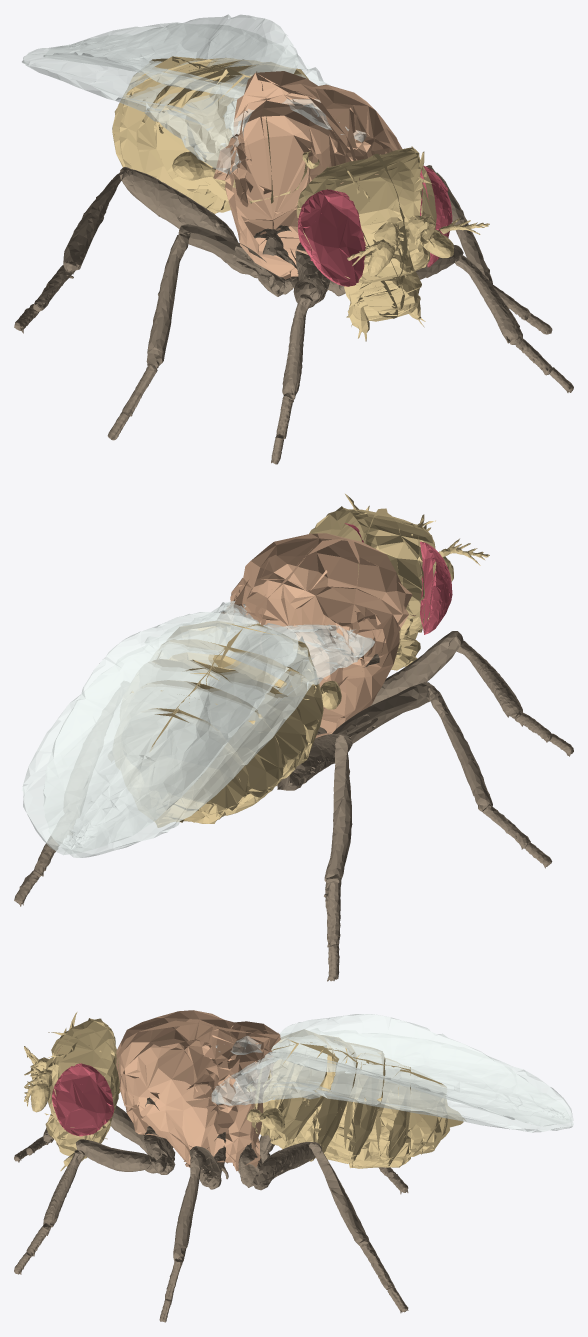
File: drosophila.glb
3 renders of one model, top to bottom at view 1: azimuth 30°, elevation 25°; view 2: azimuth 150°, elevation 25°; view 3: azimuth 270°, elevation 25°, orthographic. The views are drawn at different scales.
Visible parts, largest first — view 1: body, legs, thorax, lWing, rWing, eyes; view 2: lWing, rWing, body, thorax, legs, eyes; view 3: rWing, body, thorax, legs, lWing, eyes.
Part boxes in pixels (box(x1,y1,x2,y2)): body: box(112, 56, 489, 341); legs: box(14, 165, 573, 464); thorax: box(213, 71, 402, 279); lWing: box(22, 14, 298, 174); rWing: box(43, 22, 366, 142); eyes: box(298, 166, 452, 286); lWing: box(43, 612, 374, 857); rWing: box(22, 601, 298, 854); body: box(130, 494, 489, 827); thorax: box(218, 533, 415, 738); legs: box(14, 631, 573, 981); eyes: box(345, 523, 452, 634); rWing: box(211, 1014, 573, 1132); body: box(24, 1012, 465, 1171); thorax: box(116, 1010, 280, 1171); legs: box(14, 1097, 408, 1322); lWing: box(215, 1028, 573, 1125); eyes: box(52, 1049, 114, 1136).
Bounding box in the file's own units: 1.84 × 1.18 × 2.56.
